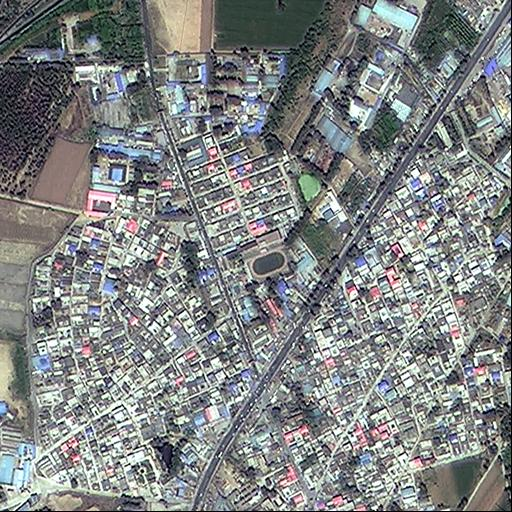school: (215, 226, 293, 280)
